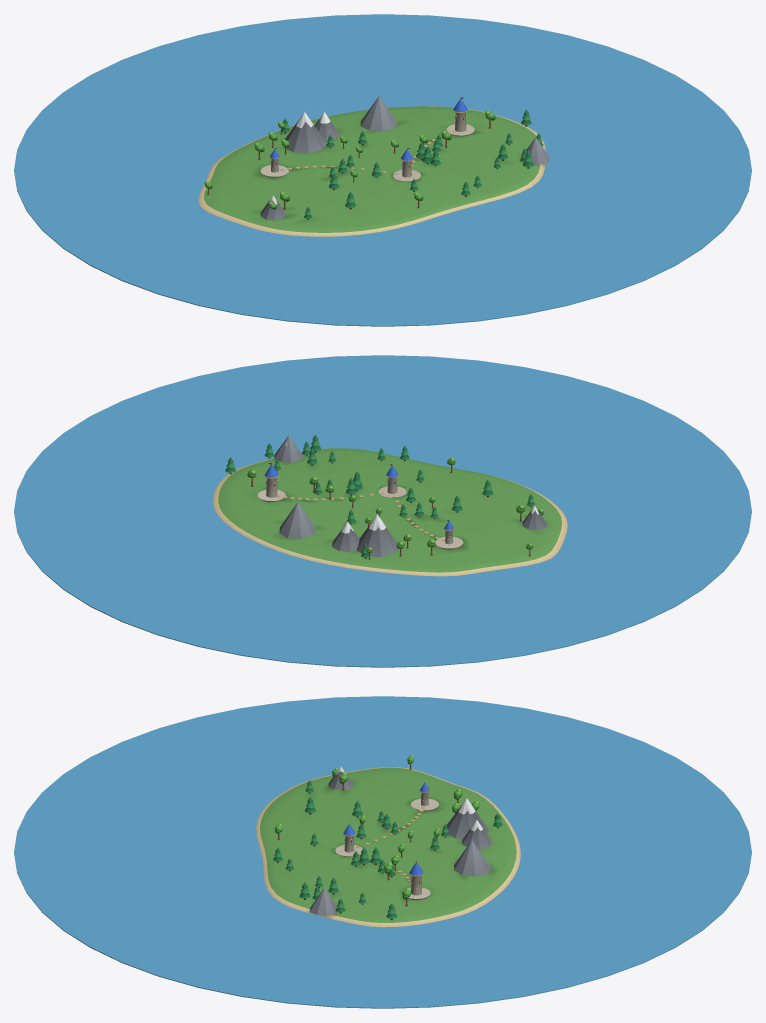
File: worldmap.glb
3 views of the same model, one above another, from view 1: azimuth 30°, elevation 25°; view 2: azimuth 150°, elevation 25°; view 3: azimuth 270°, elevation 25° (orthographic).
Visible parts, largest first — view 1: Island; view 2: Island; view 3: Island.
Part boxes in pixels (<box>): Island: <box>14,14,751,326</box>; Island: <box>14,355,751,667</box>; Island: <box>14,696,751,1008</box>.
Size of the model in its own units: 44 by 2.71 by 44.
Materials: 1 (1 with a texture image).
